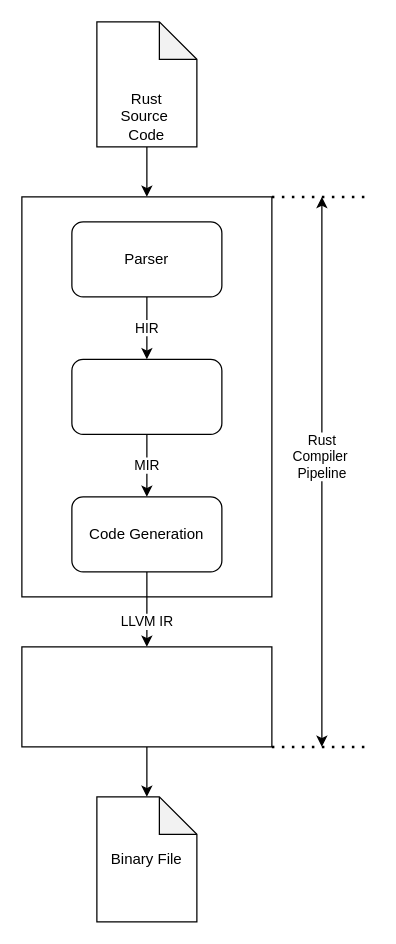
Some shapes in this 396 by 944 pixel diagram are drawn without their labels. The centre of each missing label's shape, as x and y in pixels:
"LLVM" belongs at (146,696).
"MIR optimization" belongs at (146,396).
